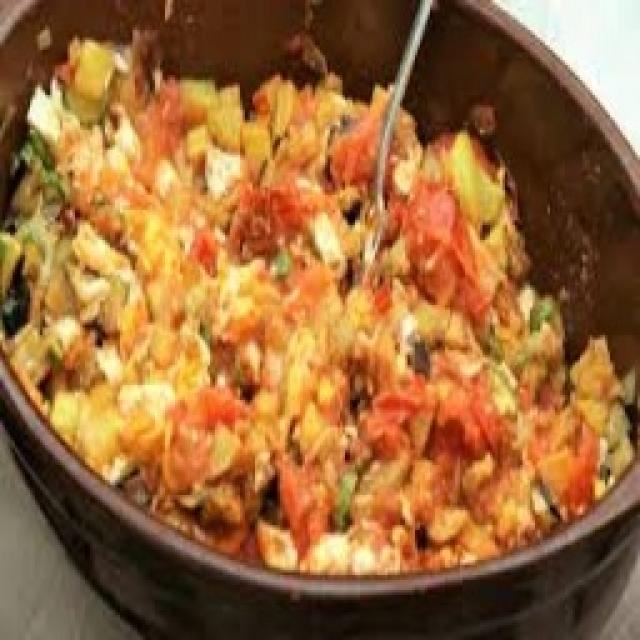Kafteji: (0, 40, 632, 574)
